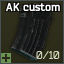AK 7.62x39 ribbed metal 10-round magazine: (0, 0, 64, 64)
